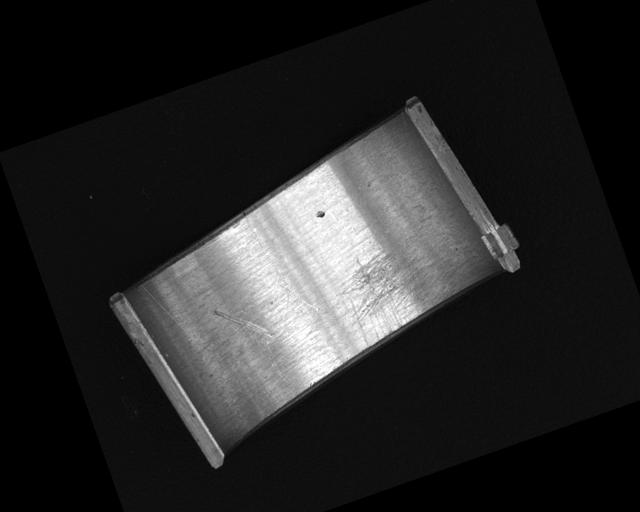bruise: (313, 209, 327, 221)
nick: (243, 200, 322, 325), (140, 268, 208, 365), (212, 294, 271, 351), (262, 332, 293, 389)
scratch: (326, 228, 466, 350)
